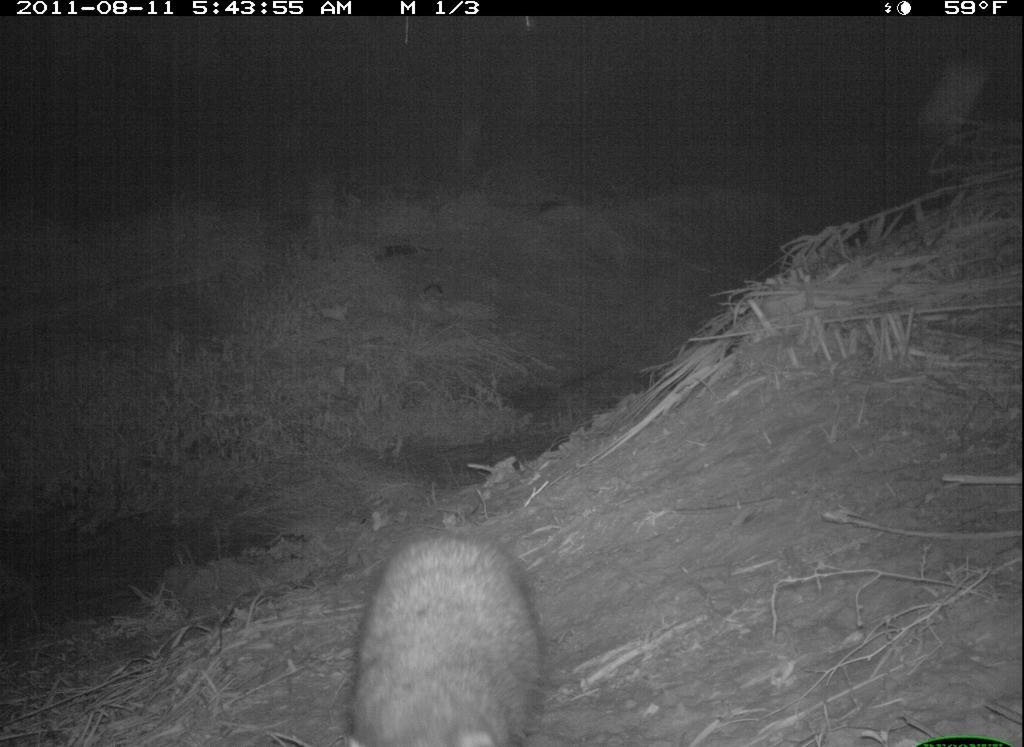raccoon: (338, 504, 553, 747)
